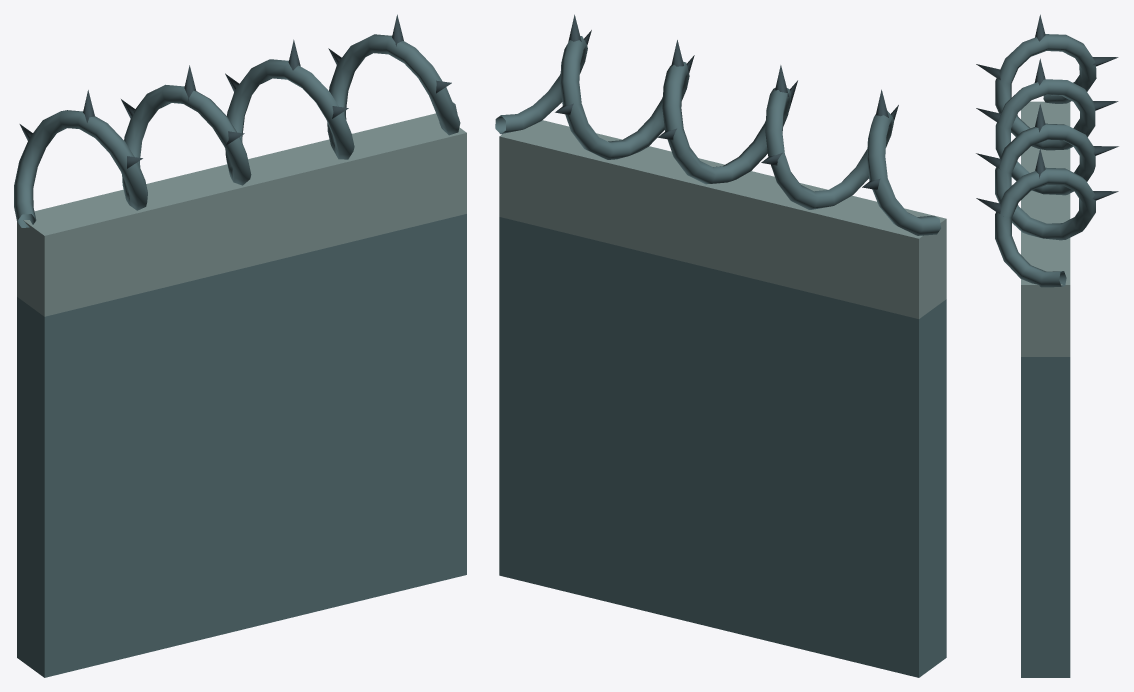
File: Fence.fbx
The picture shows the model from 3 angles, left to right: view 1: azimuth 30°, elevation 25°; view 2: azimuth 150°, elevation 25°; view 3: azimuth 270°, elevation 25°; orthographic projection. The views are drawn at different scales.
Parts seen in each view (by area): view 1: Fence; view 2: Fence; view 3: Fence.
Part boxes in pixels (x1,y1,x2,y2): Fence: [14, 14, 466, 677]; Fence: [495, 14, 946, 677]; Fence: [976, 14, 1118, 677].
Bounding box in the file's own units: 210 × 257 × 66.43.
